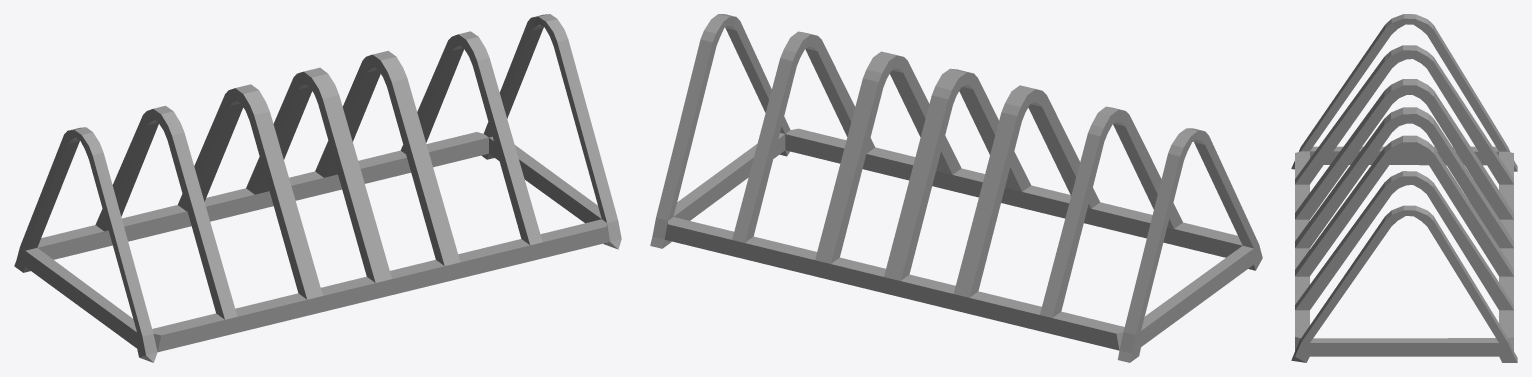
File: Model_Stojak.fbx
3 views of the same model, side by side, from view 1: azimuth 30°, elevation 25°; view 2: azimuth 150°, elevation 25°; view 3: azimuth 270°, elevation 25° (orthographic). The views are drawn at different scales.
Parts seen in each view (by area): view 1: Cube; view 2: Cube; view 3: Cube.
Boxes of the visible parts, left/top/right/bottom form: Cube: left=14, top=14, right=621, bottom=362; Cube: left=650, top=14, right=1262, bottom=362; Cube: left=1291, top=14, right=1517, bottom=362.
Size of the model in its own units: 77.87 by 58.49 by 160.
